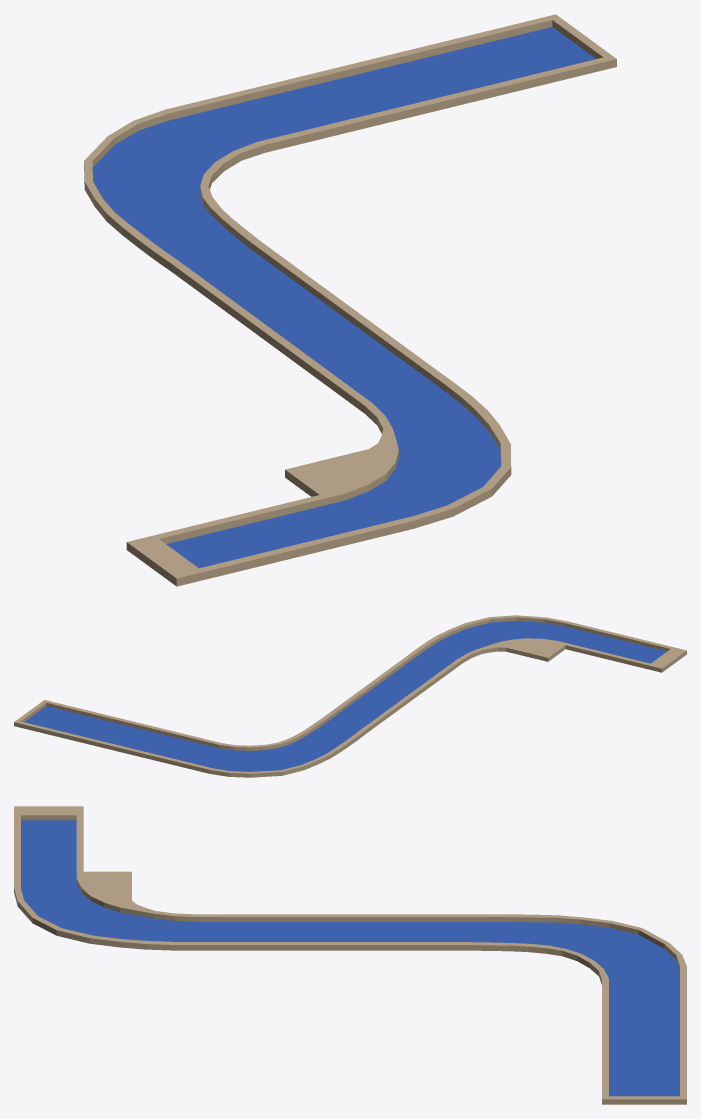
File: MaTou1_Mo.fbx
The picture shows the model from 3 angles, top to bottom: view 1: azimuth 30°, elevation 25°; view 2: azimuth 150°, elevation 25°; view 3: azimuth 270°, elevation 25°; orthographic projection. The views are drawn at different scales.
Parts seen in each view (by area): view 1: 对象002; view 2: 对象002; view 3: 对象002.
Part boxes in pixels (x1,y1,x2,y2): 对象002: (84,14,616,586); 对象002: (14,615,686,777); 对象002: (14,806,686,1104).
Bounding box in the file's own units: 9809 × 87.23 × 9522.
1 material, 1 textured.
